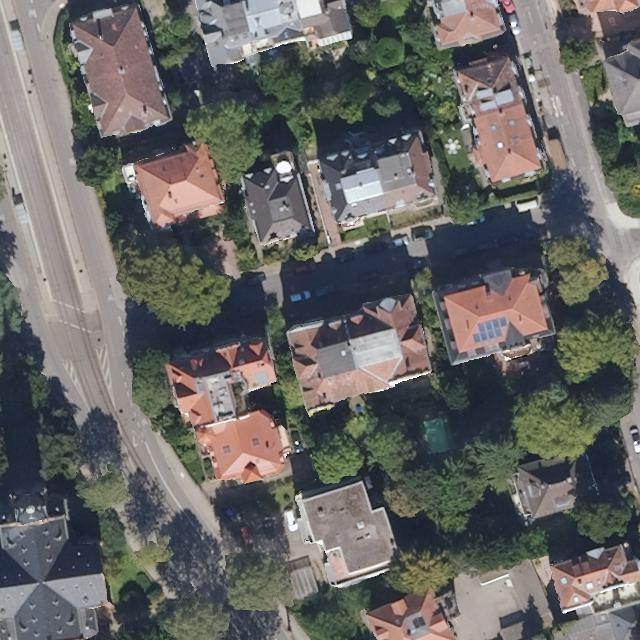PV: (472, 316, 508, 344)
